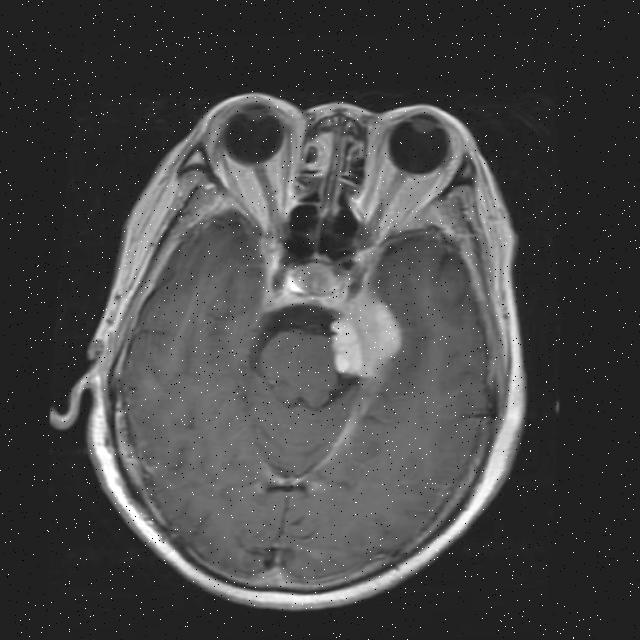Meningioma: (324, 290, 409, 378)
